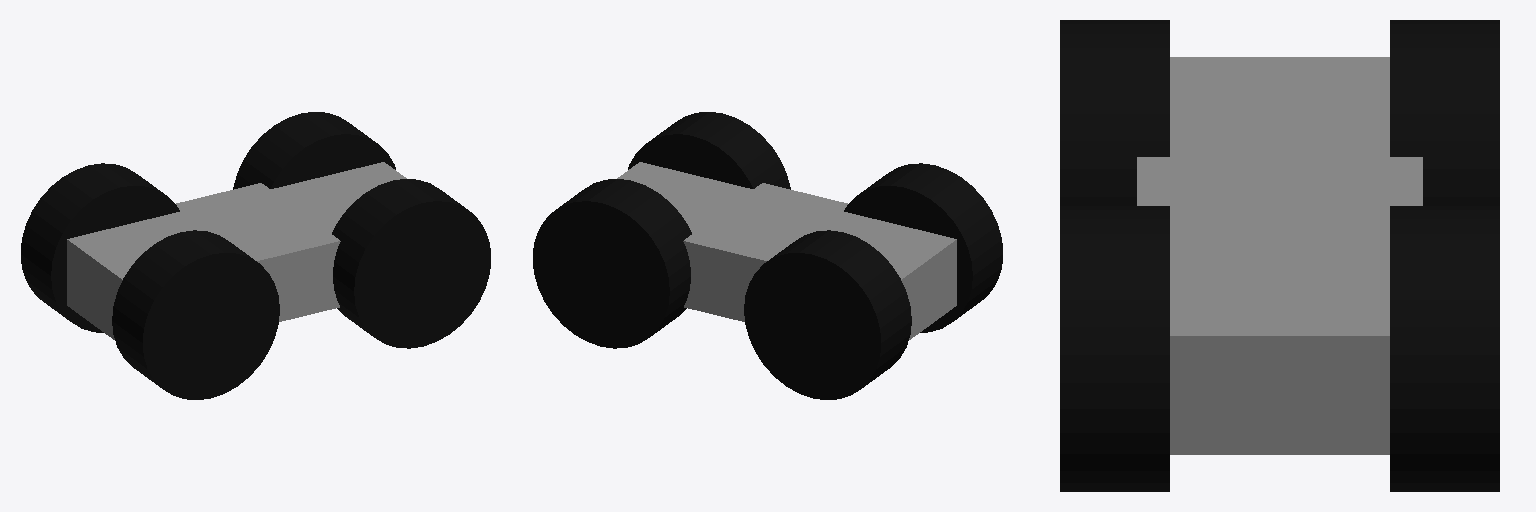
URDF robot description (arzhang4):
<?xml version="1.0" ?>
<!-- =================================================================================== -->
<!-- |    This document was autogenerated by xacro from /root/git/bluer-ugv/bluer_ugv/assets/arzhang4_description/urdf//arzhang4.urdf.xacro | -->
<!-- |    EDITING THIS FILE BY HAND IS NOT RECOMMENDED                                 | -->
<!-- =================================================================================== -->
<robot name="arzhang4">
  <!-- ================= BASE LINK ================= -->
  <link name="base_link">
    <inertial>
      <origin rpy="0 0 0" xyz="0 0 0.06"/>
      <mass value="12.0"/>
      <inertia ixx="0.20" ixy="0.0" ixz="0.0" iyy="0.35" iyz="0.0" izz="0.45"/>
    </inertial>
    <visual>
      <origin rpy="0 0 0" xyz="0 0 0.06"/>
      <geometry>
        <box size="0.6 0.26 0.12"/>
      </geometry>
      <material name="gray">
        <color rgba="0.6 0.6 0.6 1.0"/>
      </material>
    </visual>
    <collision>
      <origin rpy="0 0 0" xyz="0 0 0.06"/>
      <geometry>
        <box size="0.6 0.26 0.12"/>
      </geometry>
    </collision>
  </link>
  <link name="wheel_fl">
    <inertial>
      <origin rpy="0 0 0" xyz="0 0 0"/>
      <mass value="1.0"/>
      <inertia ixx="0.001" ixy="0.0" ixz="0.0" iyy="0.001" iyz="0.0" izz="0.001"/>
    </inertial>
    <!-- IMPORTANT: rotate cylinder so its Z-axis becomes Y (wheel axle) -->
    <visual>
      <origin rpy="1.5708 0 0" xyz="0 0 0"/>
      <geometry>
        <cylinder length="0.1" radius="0.13"/>
      </geometry>
      <material name="black">
        <color rgba="0.1 0.1 0.1 1.0"/>
      </material>
    </visual>
    <collision>
      <origin rpy="1.5708 0 0" xyz="0 0 0"/>
      <geometry>
        <cylinder length="0.1" radius="0.13"/>
      </geometry>
    </collision>
  </link>
  <joint name="wheel_fl_joint" type="continuous">
    <parent link="base_link"/>
    <child link="wheel_fl"/>
    <origin rpy="0 0 0" xyz="0.2 0.15 0.06"/>
    <!-- Axle along Y -->
    <axis xyz="0 1 0"/>
  </joint>
  <link name="wheel_fr">
    <inertial>
      <origin rpy="0 0 0" xyz="0 0 0"/>
      <mass value="1.0"/>
      <inertia ixx="0.001" ixy="0.0" ixz="0.0" iyy="0.001" iyz="0.0" izz="0.001"/>
    </inertial>
    <!-- IMPORTANT: rotate cylinder so its Z-axis becomes Y (wheel axle) -->
    <visual>
      <origin rpy="1.5708 0 0" xyz="0 0 0"/>
      <geometry>
        <cylinder length="0.1" radius="0.13"/>
      </geometry>
      <material name="black">
        <color rgba="0.1 0.1 0.1 1.0"/>
      </material>
    </visual>
    <collision>
      <origin rpy="1.5708 0 0" xyz="0 0 0"/>
      <geometry>
        <cylinder length="0.1" radius="0.13"/>
      </geometry>
    </collision>
  </link>
  <joint name="wheel_fr_joint" type="continuous">
    <parent link="base_link"/>
    <child link="wheel_fr"/>
    <origin rpy="0 0 0" xyz="0.2 -0.15 0.06"/>
    <!-- Axle along Y -->
    <axis xyz="0 1 0"/>
  </joint>
  <link name="wheel_rl">
    <inertial>
      <origin rpy="0 0 0" xyz="0 0 0"/>
      <mass value="1.0"/>
      <inertia ixx="0.001" ixy="0.0" ixz="0.0" iyy="0.001" iyz="0.0" izz="0.001"/>
    </inertial>
    <!-- IMPORTANT: rotate cylinder so its Z-axis becomes Y (wheel axle) -->
    <visual>
      <origin rpy="1.5708 0 0" xyz="0 0 0"/>
      <geometry>
        <cylinder length="0.1" radius="0.13"/>
      </geometry>
      <material name="black">
        <color rgba="0.1 0.1 0.1 1.0"/>
      </material>
    </visual>
    <collision>
      <origin rpy="1.5708 0 0" xyz="0 0 0"/>
      <geometry>
        <cylinder length="0.1" radius="0.13"/>
      </geometry>
    </collision>
  </link>
  <joint name="wheel_rl_joint" type="continuous">
    <parent link="base_link"/>
    <child link="wheel_rl"/>
    <origin rpy="0 0 0" xyz="-0.2 0.15 0.06"/>
    <!-- Axle along Y -->
    <axis xyz="0 1 0"/>
  </joint>
  <link name="wheel_rr">
    <inertial>
      <origin rpy="0 0 0" xyz="0 0 0"/>
      <mass value="1.0"/>
      <inertia ixx="0.001" ixy="0.0" ixz="0.0" iyy="0.001" iyz="0.0" izz="0.001"/>
    </inertial>
    <!-- IMPORTANT: rotate cylinder so its Z-axis becomes Y (wheel axle) -->
    <visual>
      <origin rpy="1.5708 0 0" xyz="0 0 0"/>
      <geometry>
        <cylinder length="0.1" radius="0.13"/>
      </geometry>
      <material name="black">
        <color rgba="0.1 0.1 0.1 1.0"/>
      </material>
    </visual>
    <collision>
      <origin rpy="1.5708 0 0" xyz="0 0 0"/>
      <geometry>
        <cylinder length="0.1" radius="0.13"/>
      </geometry>
    </collision>
  </link>
  <joint name="wheel_rr_joint" type="continuous">
    <parent link="base_link"/>
    <child link="wheel_rr"/>
    <origin rpy="0 0 0" xyz="-0.2 -0.15 0.06"/>
    <!-- Axle along Y -->
    <axis xyz="0 1 0"/>
  </joint>
  <!-- ================= GAZEBO DIFF DRIVE ================= -->
  <gazebo>
    <plugin filename="gz-sim-diff-drive-system" name="gz::sim::systems::DiffDrive">
      <left_joint>wheel_fl_joint</left_joint>
      <left_joint>wheel_rl_joint</left_joint>
      <right_joint>wheel_fr_joint</right_joint>
      <right_joint>wheel_rr_joint</right_joint>
      <wheel_separation>0.3</wheel_separation>
      <wheel_radius>0.1</wheel_radius>
      <topic>cmd_vel</topic>
      <odom_topic>odom</odom_topic>
      <odom_frame>odom</odom_frame>
      <robot_base_frame>base_link</robot_base_frame>
      <publish_tf>true</publish_tf>
    </plugin>
  </gazebo>
</robot>

--- Facts derived from the render (not from the file) ---
3 views of the same robot in one strip: view 1: azimuth 30°, elevation 25°; view 2: azimuth 150°, elevation 25°; view 3: azimuth 270°, elevation 25° (orthographic).
Robot: arzhang4 — 5 links, 4 joints (4 continuous); root link base_link; default pose: all joints at 0.
Links seen in each view (by area): view 1: wheel_rr, base_link, wheel_fr, wheel_rl, wheel_fl; view 2: wheel_rl, base_link, wheel_fl, wheel_rr, wheel_fr; view 3: base_link, wheel_fl, wheel_fr, wheel_rl, wheel_rr.
Boxes of the visible links, left/top/right/bottom form: wheel_rr: left=112, top=230, right=279, bottom=399; base_link: left=67, top=162, right=406, bottom=339; wheel_fr: left=332, top=179, right=490, bottom=348; wheel_rl: left=21, top=163, right=179, bottom=332; wheel_fl: left=233, top=112, right=395, bottom=189; wheel_rl: left=744, top=230, right=911, bottom=399; base_link: left=617, top=162, right=956, bottom=339; wheel_fl: left=533, top=179, right=691, bottom=348; wheel_rr: left=844, top=163, right=1002, bottom=332; wheel_fr: left=628, top=112, right=790, bottom=189; base_link: left=1137, top=57, right=1422, bottom=454; wheel_fl: left=1390, top=206, right=1499, bottom=491; wheel_fr: left=1060, top=206, right=1169, bottom=491; wheel_rl: left=1390, top=20, right=1499, bottom=205; wheel_rr: left=1060, top=20, right=1169, bottom=205.
Size in the robot's own frame: 0.66 by 0.4 by 0.26 metres.
Geometry: primitives only (box / cylinder / sphere), no mesh files.
